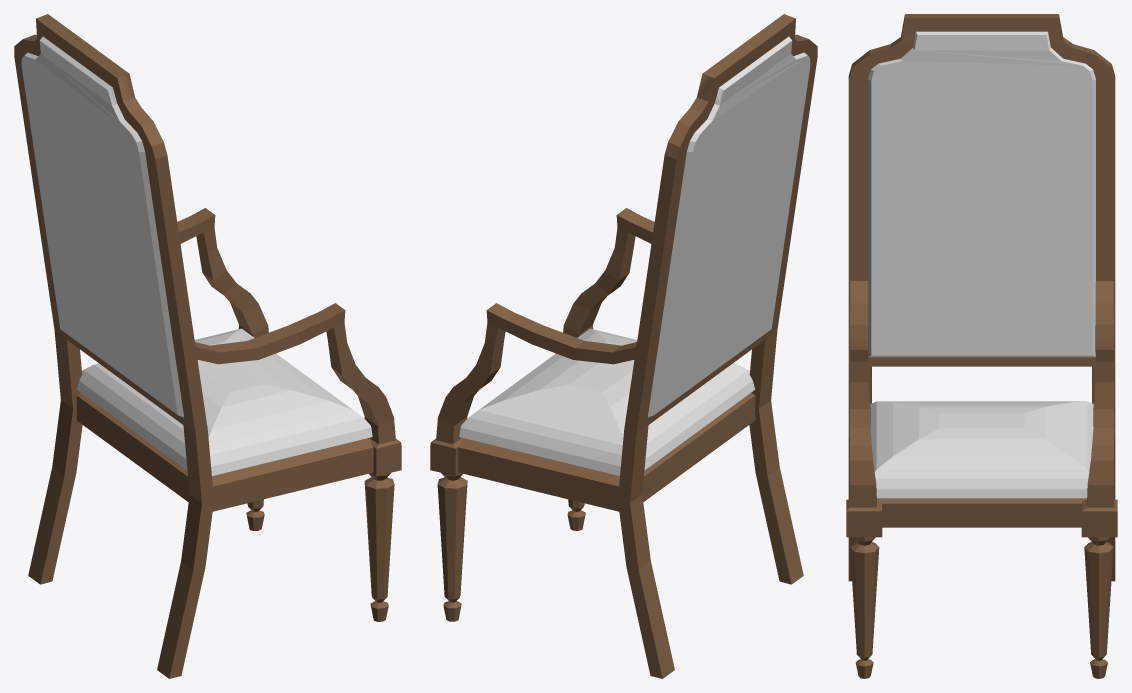
The model's file is SM_Chair_01.glb.
The picture shows the model from 3 angles, left to right: view 1: azimuth 30°, elevation 25°; view 2: azimuth 150°, elevation 25°; view 3: azimuth 270°, elevation 25°; orthographic projection. The views are drawn at different scales.
Visible parts, largest first — view 1: SM_Chair_01; view 2: SM_Chair_01; view 3: SM_Chair_01.
Part boxes in pixels (box(x1,y1,x2,y2)): SM_Chair_01: box(14, 14, 401, 678); SM_Chair_01: box(430, 14, 817, 678); SM_Chair_01: box(846, 14, 1117, 678).
Size of the model in its own units: 0.5948 by 1.3 by 0.5762.
1 material, 1 textured.
